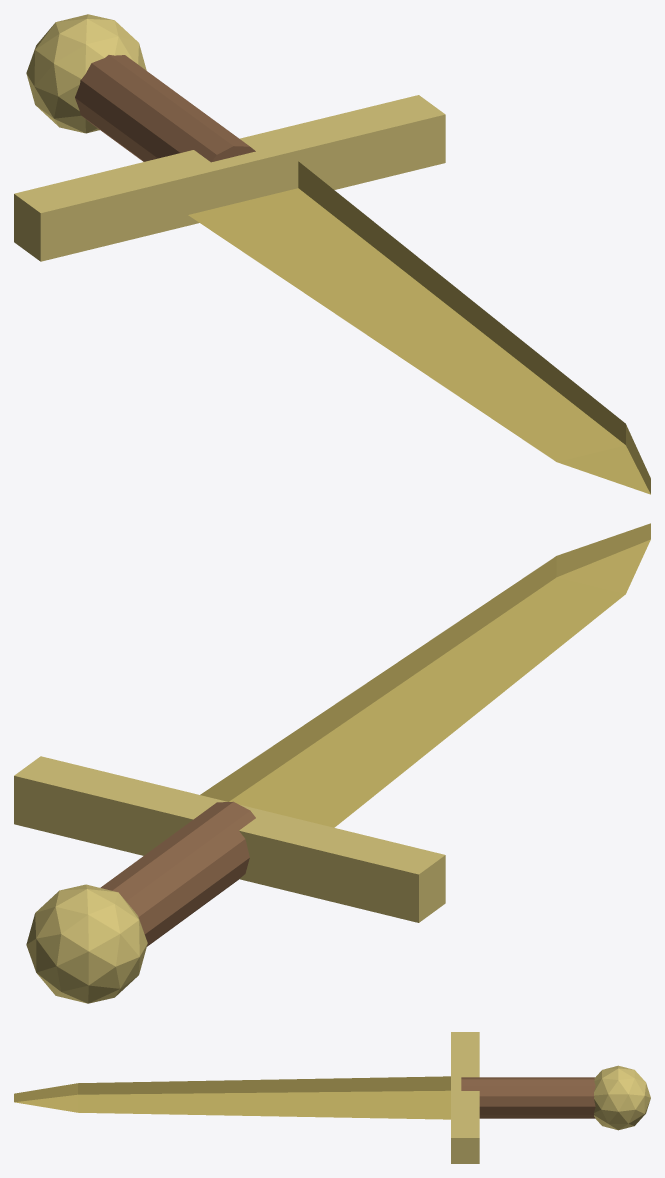
File: golden_broadsword.glb
3 views of the same model, one above another, from view 1: azimuth 30°, elevation 25°; view 2: azimuth 150°, elevation 25°; view 3: azimuth 270°, elevation 25° (orthographic). The views are drawn at different scales.
Visible parts, largest first — view 1: sword_0_0, sword_0_1, sword_0_2, sword_0_3; view 2: sword_0_0, sword_0_1, sword_0_3, sword_0_2; view 3: sword_0_0, sword_0_2, sword_0_1, sword_0_3.
Part boxes in pixels (<box>): sword_0_0: <box>188,161,650,494</box>; sword_0_1: <box>14,95,445,261</box>; sword_0_2: <box>75,55,255,162</box>; sword_0_3: <box>26,14,146,133</box>; sword_0_0: <box>200,523,650,827</box>; sword_0_1: <box>14,756,445,922</box>; sword_0_3: <box>26,884,147,1003</box>; sword_0_2: <box>100,801,255,946</box>; sword_0_0: <box>14,1076,450,1119</box>; sword_0_2: <box>461,1077,595,1118</box>; sword_0_1: <box>451,1032,479,1163</box>; sword_0_3: <box>594,1065,650,1130</box>.
Bounding box in the file's own units: 1.57 × 0.4088 × 4.
